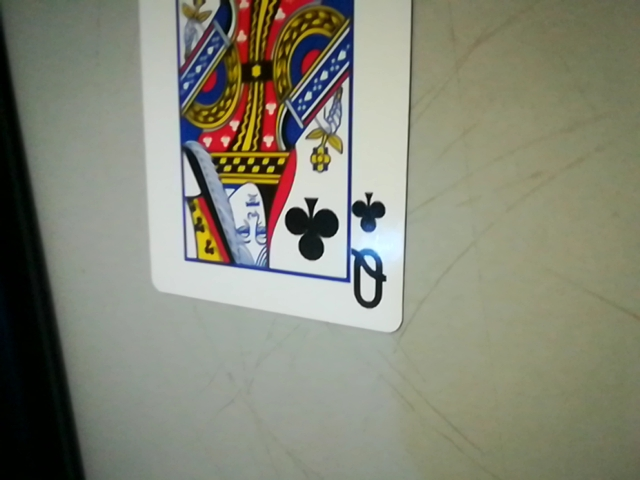mh q: (343, 189, 397, 323)
